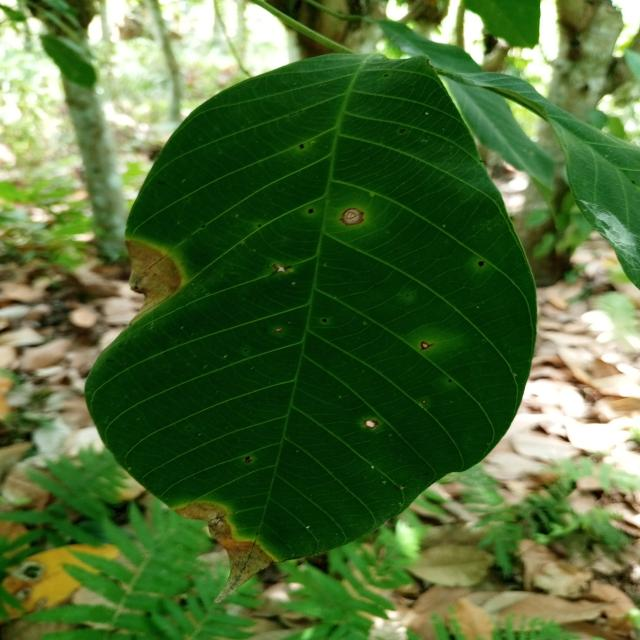Colletotrichum: (340, 208, 365, 226), (420, 341, 430, 350), (276, 327, 283, 333), (478, 260, 484, 267), (308, 208, 314, 214), (399, 129, 406, 133), (322, 318, 327, 323), (422, 400, 427, 404), (300, 144, 304, 149)
Leaf-Blight: (172, 501, 274, 603), (124, 239, 184, 324)
